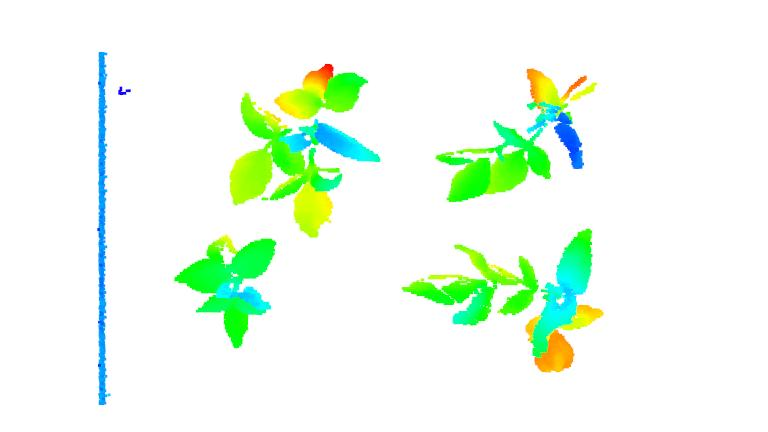mungbean: (224, 59, 381, 238), (411, 231, 610, 372), (435, 59, 605, 206), (172, 234, 279, 346)
